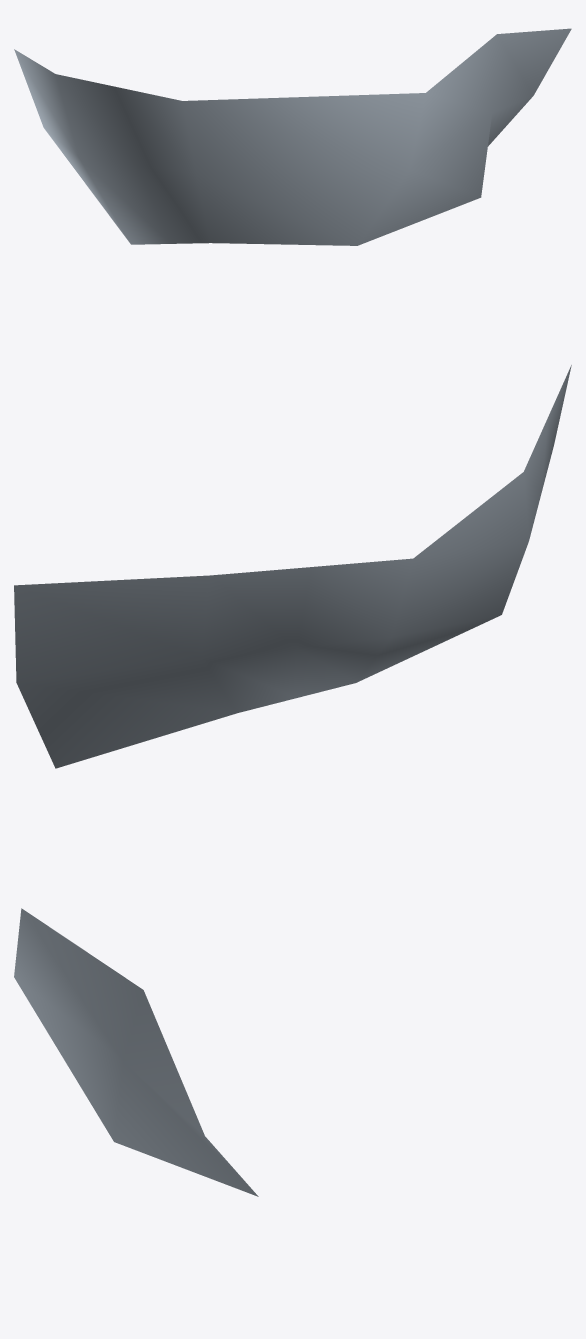
Rendered from annular-ligament-of-radius-r.glb.
The picture shows the model from 3 angles, top to bottom: view 1: azimuth 30°, elevation 25°; view 2: azimuth 150°, elevation 25°; view 3: azimuth 270°, elevation 25°; orthographic projection. The views are drawn at different scales.
Parts seen in each view (by area): view 1: Annular ligament of radius.r; view 2: Annular ligament of radius.r; view 3: Annular ligament of radius.r.
Part boxes in pixels (<box>): Annular ligament of radius.r: <box>14,28,571,245</box>; Annular ligament of radius.r: <box>14,365,571,768</box>; Annular ligament of radius.r: <box>14,908,258,1196</box>.
Bounding box in the file's own units: 0.0255 × 0.0174 × 0.0243.
